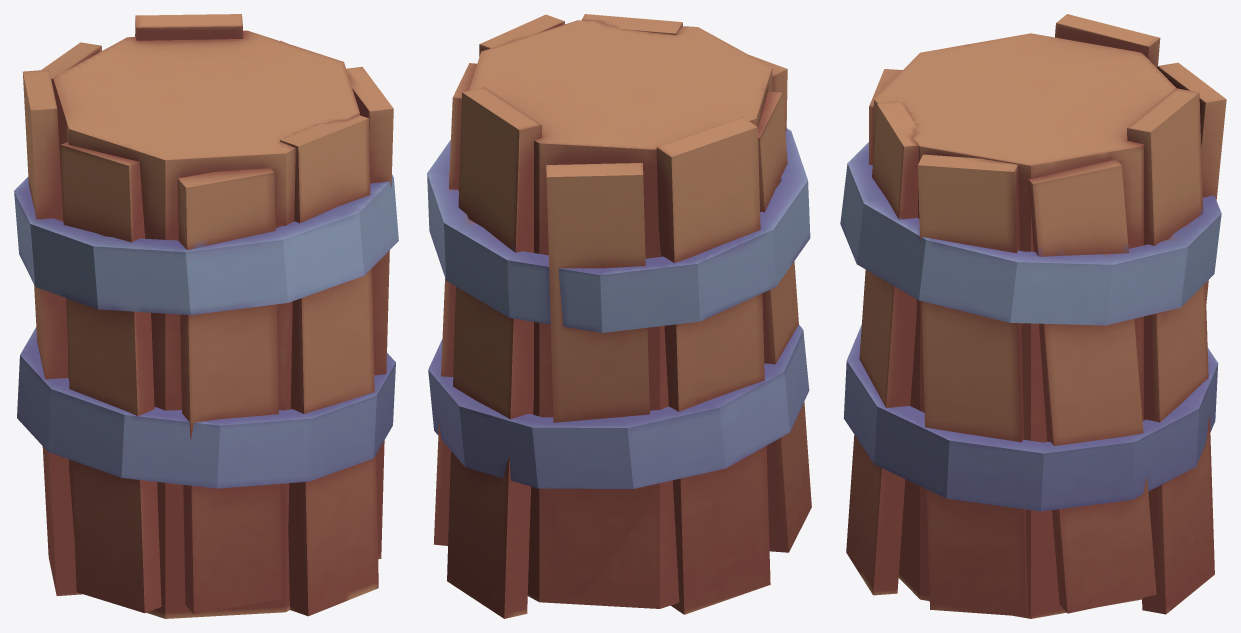
File: Barrel_Tall.glb
The picture shows the model from 3 angles, left to right: view 1: azimuth 30°, elevation 25°; view 2: azimuth 150°, elevation 25°; view 3: azimuth 270°, elevation 25°; orthographic projection.
Visible parts, largest first — view 1: Barrel_Tall; view 2: Barrel_Tall; view 3: Barrel_Tall.
Boxes of the visible parts, x1,y1,x2,y2 form: Barrel_Tall: [14, 14, 398, 618]; Barrel_Tall: [427, 14, 811, 618]; Barrel_Tall: [840, 14, 1226, 618].
Bounding box in the file's own units: 0.7459 × 1.05 × 0.763.
Materials: 1 (1 with a texture image).
